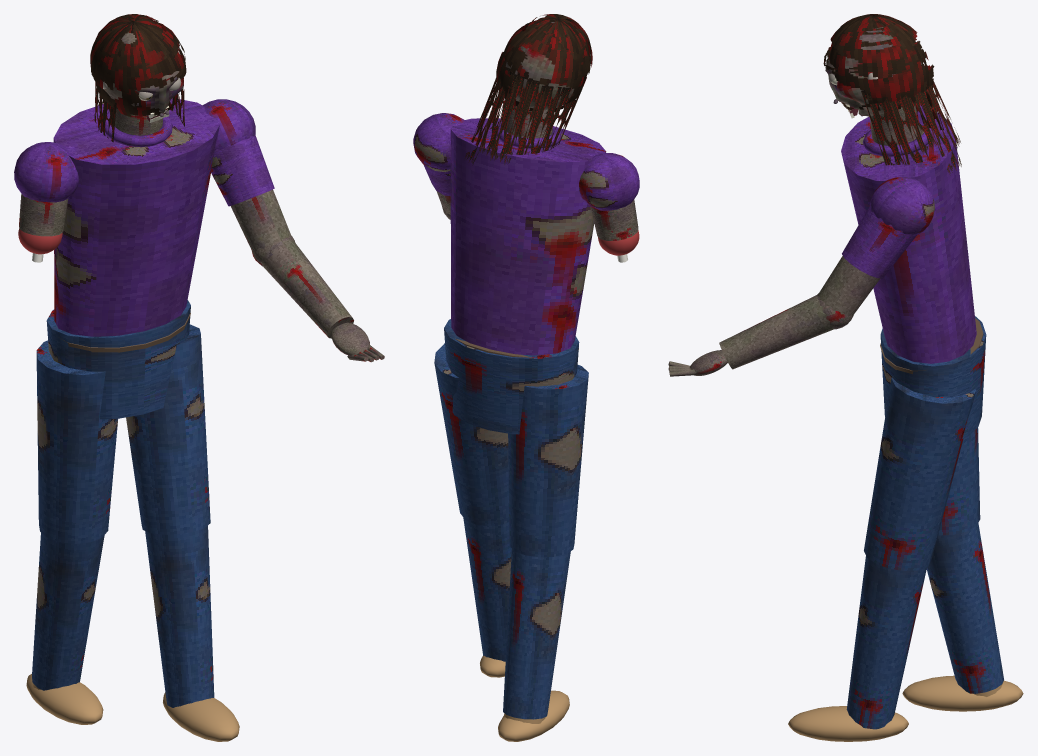
File: Zombie_060.glb
3 views of the same model, side by side, from view 1: azimuth 30°, elevation 25°; view 2: azimuth 150°, elevation 25°; view 3: azimuth 270°, elevation 25° (orthographic). The views are drawn at different scales.
Visible parts, largest first — view 1: Zombie_060, object 36, object 3, object 37, object 9, object 4; view 2: Zombie_060, object 37, object 36, object 43, object 9, object 44, object 45, object 42, object 46, object 41; view 3: Zombie_060, object 3, object 37, object 36, object 9, object 38, object 39, object 41, object 40, object 4.
Part boxes in pixels (x1,y1,x2,y2): Zombie_060: (14, 98, 291, 741); object 36: (96, 14, 185, 91); object 3: (260, 239, 353, 338); object 37: (90, 14, 186, 116); object 9: (104, 32, 183, 115); object 4: (331, 322, 369, 355); Zombie_060: (413, 106, 639, 741); object 37: (496, 17, 589, 113); object 36: (504, 14, 592, 82); object 43: (490, 74, 532, 163); object 9: (505, 22, 574, 109); object 44: (504, 79, 548, 164); object 45: (522, 85, 561, 154); object 42: (478, 67, 519, 157); object 46: (536, 87, 575, 153); object 41: (464, 66, 511, 165); Zombie_060: (788, 104, 1023, 741); object 3: (719, 295, 834, 369); object 37: (829, 15, 934, 110); object 36: (823, 14, 928, 75); object 9: (825, 27, 921, 117); object 38: (861, 90, 907, 165); object 39: (885, 94, 929, 165); object 41: (917, 85, 961, 175); object 40: (900, 91, 940, 154); object 4: (690, 350, 727, 375).
Bounding box in the file's own units: 0.6407 × 1.77 × 0.8079.
Materials: 18 (6 with a texture image).
